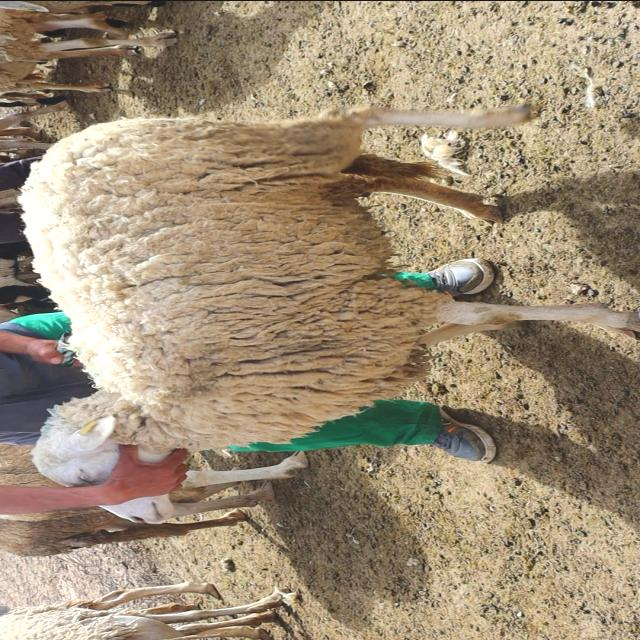Score_3: (20, 105, 639, 486)
